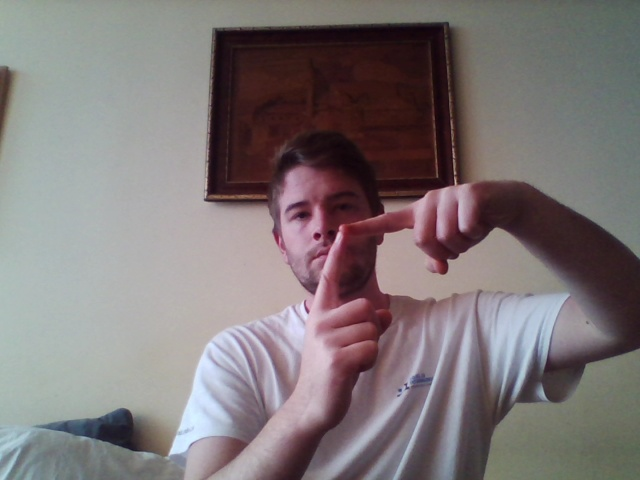kad: (298, 177, 522, 427)
